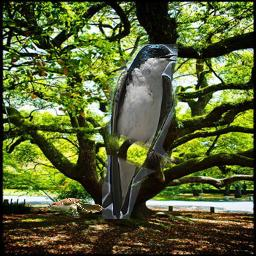Cuckoo: (47, 198, 104, 218)
Swallow: (102, 44, 178, 219)
